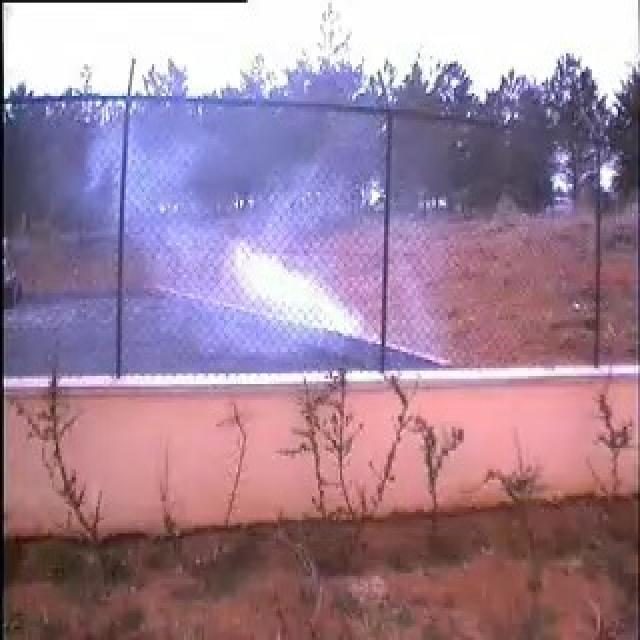smoke: (129, 110, 387, 382)
